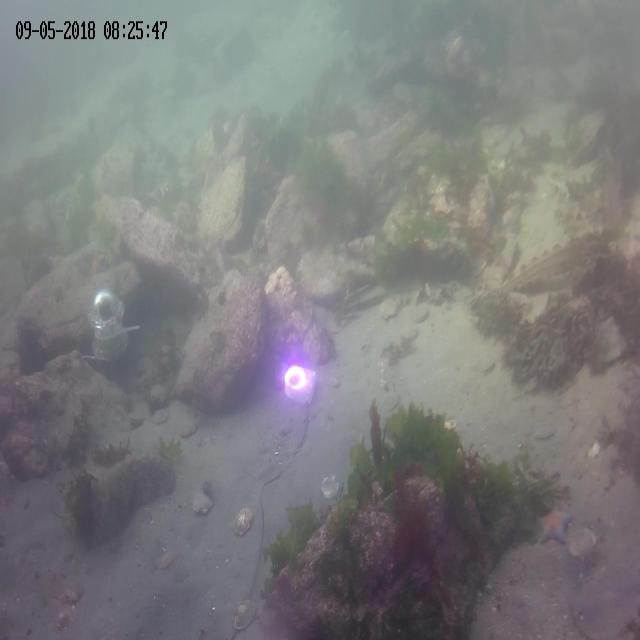scallop: (230, 596, 258, 630), (52, 578, 86, 604), (571, 528, 597, 559), (232, 504, 255, 538), (190, 491, 215, 516), (154, 548, 177, 573), (320, 472, 340, 500), (533, 420, 555, 444), (58, 598, 74, 625), (177, 418, 196, 440), (413, 298, 429, 324), (378, 297, 396, 320), (152, 409, 170, 427), (401, 322, 417, 342), (127, 408, 144, 426)
starfish: (538, 502, 570, 548)
